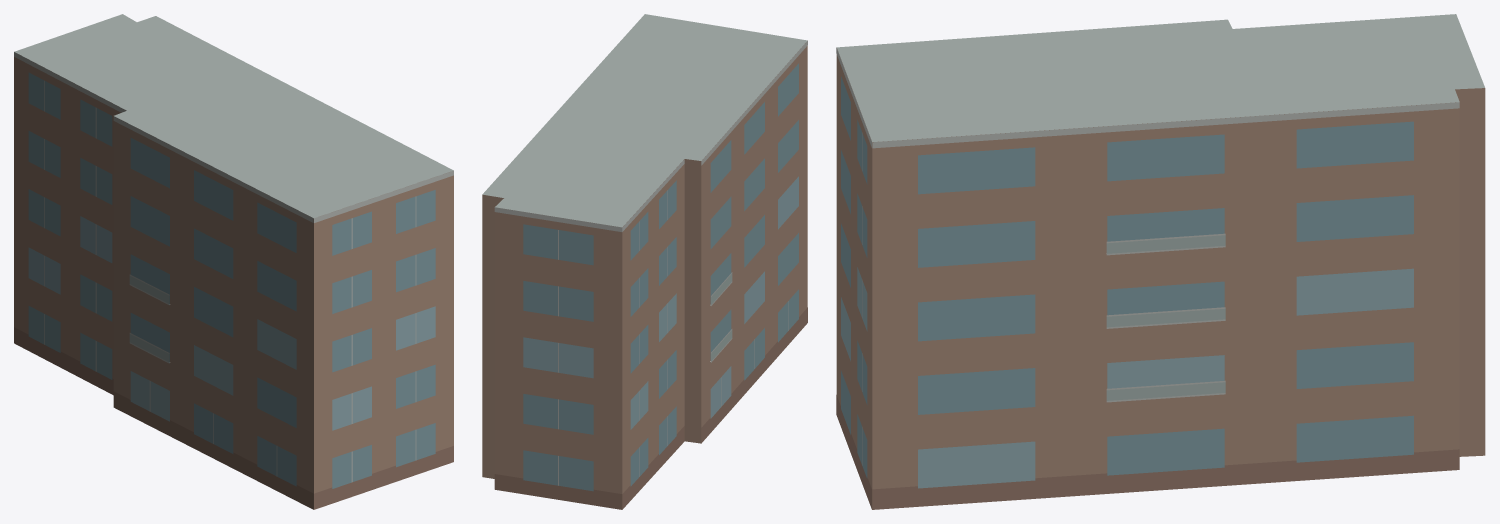
The model's file is survey-upis-32992349.glb.
The picture shows the model from 3 angles, left to right: view 1: azimuth 30°, elevation 25°; view 2: azimuth 150°, elevation 25°; view 3: azimuth 270°, elevation 25°; orthographic projection. The views are drawn at different scales.
Visible parts, largest first — view 1: survey-upis-32992349.tmp; view 2: survey-upis-32992349.tmp; view 3: survey-upis-32992349.tmp.
Boxes of the visible parts, left/top/right/bottom form: survey-upis-32992349.tmp: left=14, top=14, right=453, bottom=509; survey-upis-32992349.tmp: left=482, top=14, right=807, bottom=509; survey-upis-32992349.tmp: left=836, top=14, right=1485, bottom=509.
Bounding box in the file's own units: 10.77 × 14.4 × 23.03.
